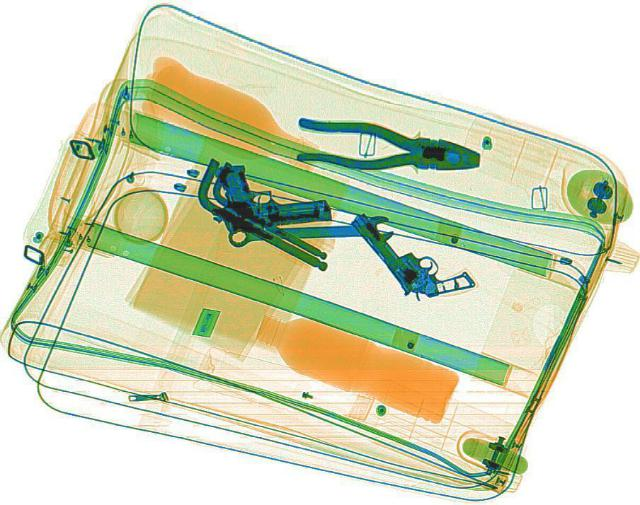Gun: (346, 194, 476, 307), (203, 155, 333, 233)
Pliers: (288, 114, 484, 180)
Wrench: (224, 214, 392, 249)
